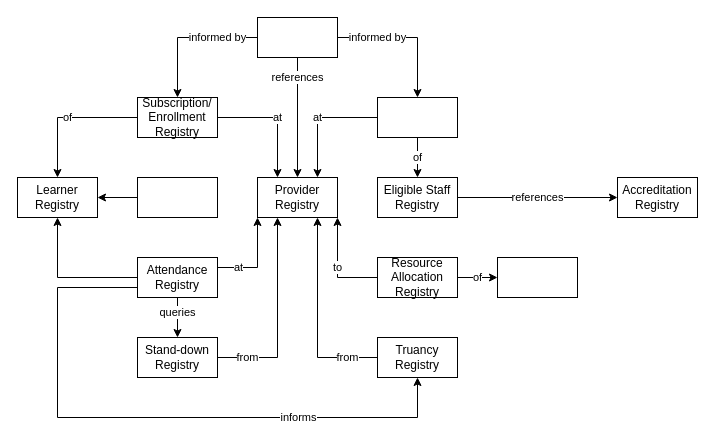
This 715x443 diagram has some shape labels left out. The shapes that lost their labels are listed below. From the top down, each one's centre as x and y in pixels, then its label:
At point (297, 37): "Funding Service".
At point (417, 117): "Actual/Current Staff Registry".
At point (177, 197): "Caretaker Registry".
At point (537, 277): "Resource Registry".
